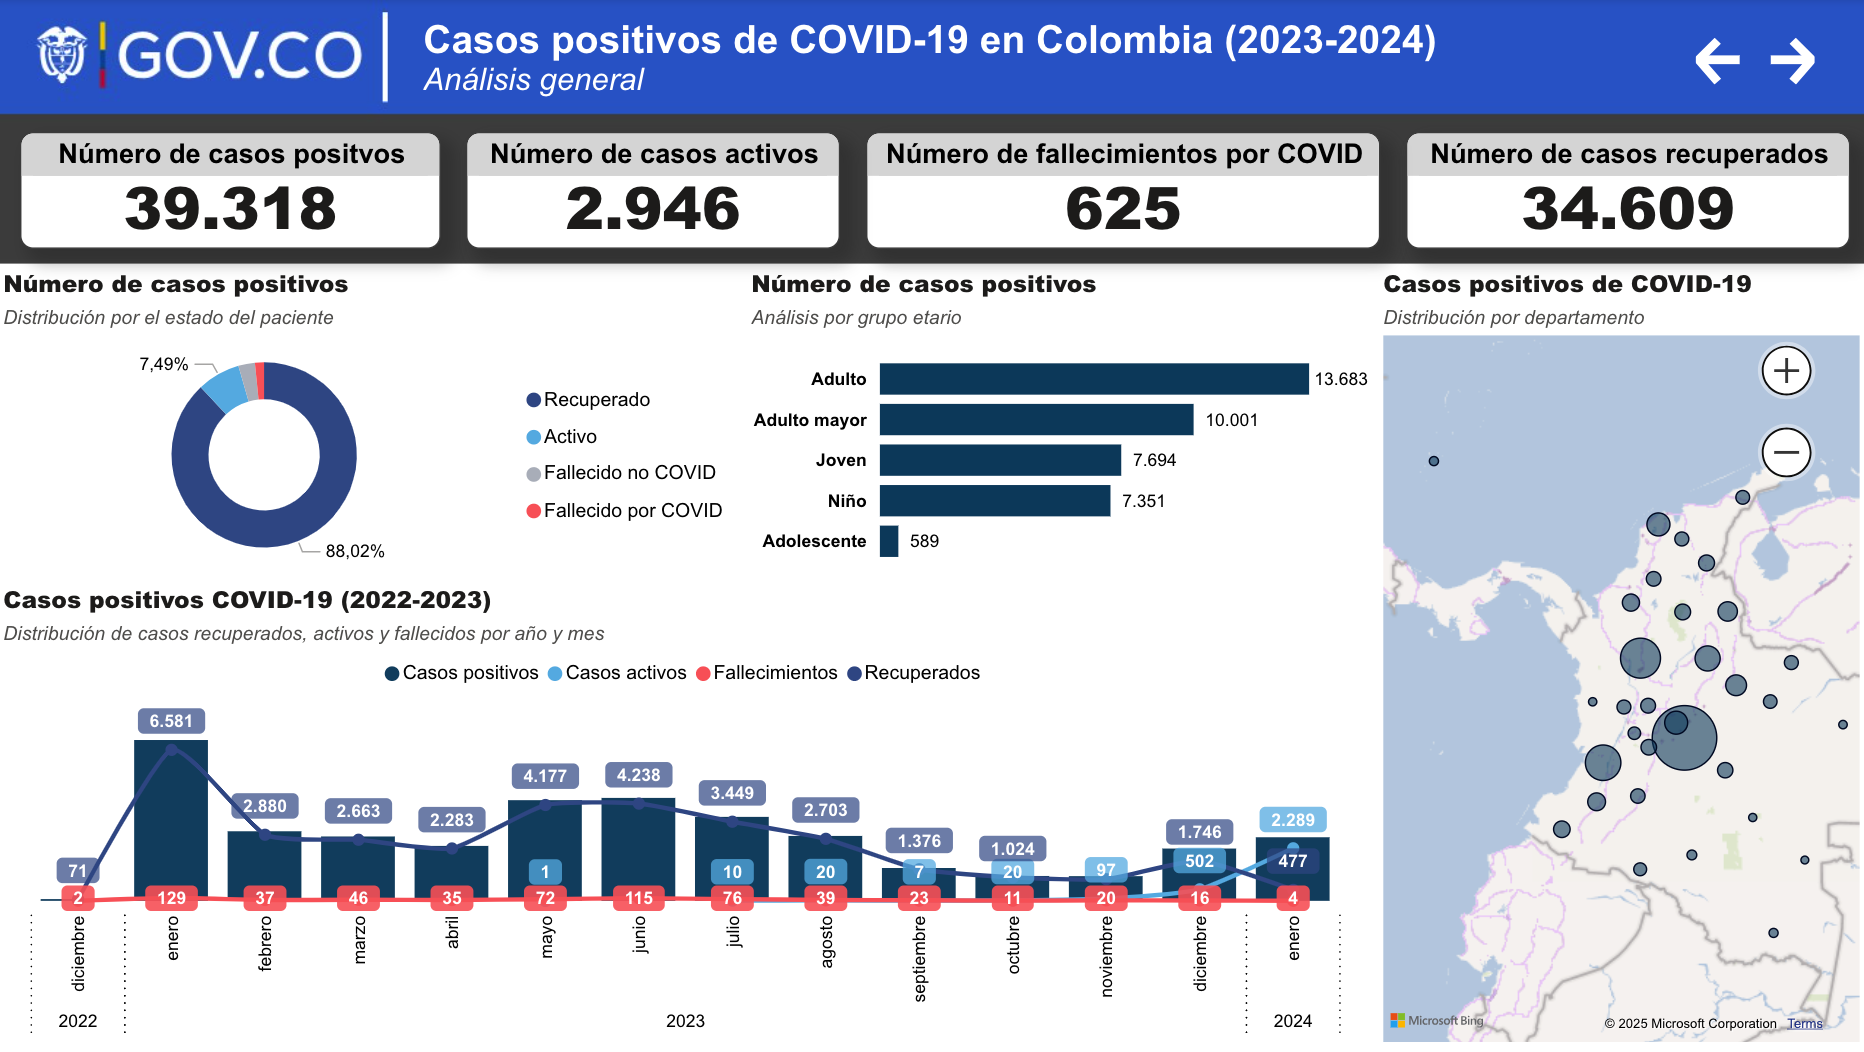

The dashboard page shown, as its layout file describes it:
{"tool":"powerbi","page":{"name":"Resumen","canvas":[1280,720],"ordinal":1},"visuals":[{"type":"map","title":"Casos positivos de COVID-19","fields":{"Size":["Medidas.Numero de casos positvos"],"Y":["Municipio.Latitud_Departamento"],"X":["Municipio.Longitud_Departamento"]},"box":[944,184,336,536],"z":0},{"type":"card","title":"Número de casos positvos","fields":{"Values":["Medidas.Número de casos"]},"box":[16.2,91.5,288,80],"z":1000},{"type":"donutChart","title":"Número de casos positivos","fields":{"Category":["Casos.Estado"],"Y":["Medidas.Numero de casos positvos"]},"box":[0,184,512,216],"z":2000},{"type":"clusteredBarChart","title":"Número de casos positivos","fields":{"Category":["Casos.Clasifiacion_Edad"],"Y":["Medidas.Numero de casos positvos"]},"box":[512,184,432,216],"z":3000},{"type":"card","title":"Número de casos recuperados","fields":{"Values":["Medidas.Numero de recuperados"]},"box":[965,91.5,304,80],"z":4000},{"type":"card","title":"Número de fallecimientos por COVID","fields":{"Values":["Medidas.Numero de fallecimientos"]},"box":[595.4,91.5,352,80],"z":5000},{"type":"lineStackedColumnComboChart","title":"Casos positivos COVID-19 (2022-2023)","fields":{"Category":["Calendario.Date.Variación.Jerarquía de fechas.Año","Calendario.Date.Variación.Jerarquía de fechas.Mes","Calendario.Date.Variación.Jerarquía de fechas.Día"],"Y":["Medidas.Numero de casos positvos"],"Y2":["Medidas.Numero de casos activos","Medidas.Numero de fallecimientos","Medidas.Numero de recuperados"]},"box":[0,400,944,320],"z":6000},{"type":"textbox","box":[288,8,928,72],"z":7000},{"type":"card","title":"Número de casos activos","fields":{"Values":["Medidas.Numero de casos activos"]},"box":[321.8,91.5,256,80],"z":8000},{"type":"actionButton","box":[1160,22.7,48,40],"z":9000},{"type":"actionButton","box":[1208,22.7,48,40],"z":10000}]}

Visuals, with their boxes in screenshot pixels (x1, y1, x2, y2), scaled from the page's 1280x720 canvas onto the 1864x1052 screenshot:
"Casos positivos de COVID-19" map: [x1=1375, y1=269, x2=1863, y2=1051]
"Número de casos positvos" card: [x1=24, y1=134, x2=443, y2=251]
"Número de casos positivos" donutChart: [x1=0, y1=269, x2=746, y2=584]
"Número de casos positivos" clusteredBarChart: [x1=746, y1=269, x2=1375, y2=584]
"Número de casos recuperados" card: [x1=1405, y1=134, x2=1848, y2=251]
"Número de fallecimientos por COVID" card: [x1=867, y1=134, x2=1380, y2=251]
"Casos positivos COVID-19 (2022-2023)" lineStackedColumnComboChart: [x1=0, y1=584, x2=1375, y2=1051]
textbox: [x1=419, y1=12, x2=1771, y2=117]
"Número de casos activos" card: [x1=469, y1=134, x2=841, y2=251]
actionButton: [x1=1689, y1=33, x2=1759, y2=92]
actionButton: [x1=1759, y1=33, x2=1829, y2=92]
